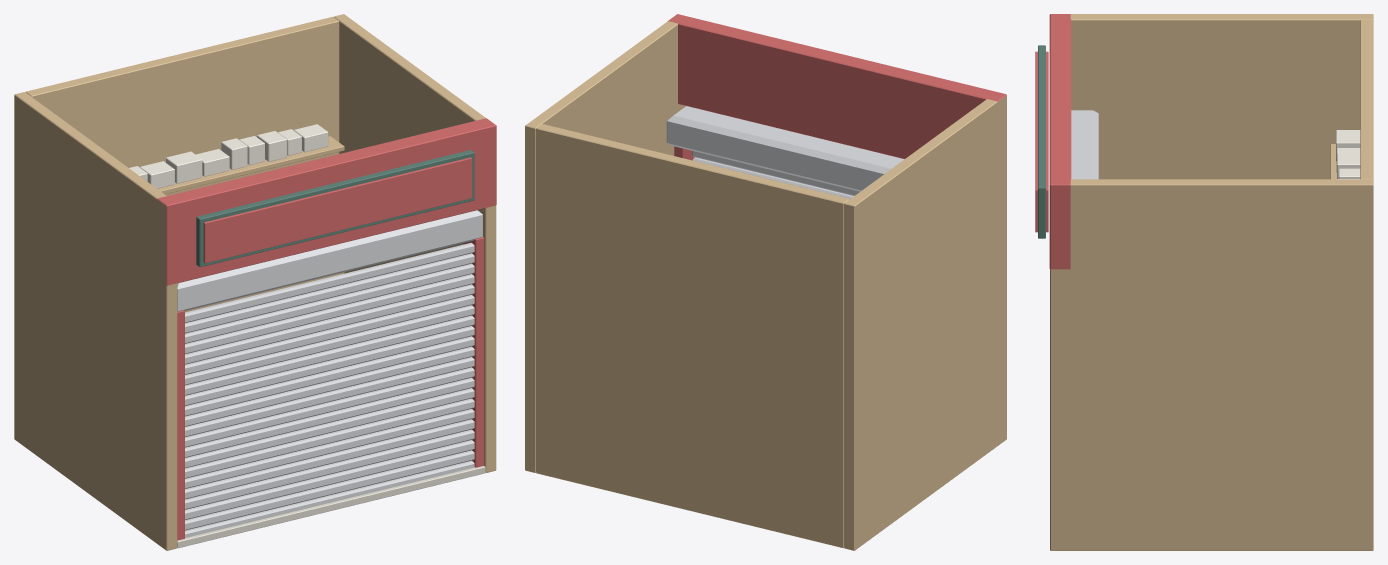
File: indoor-market-hall-and-traders-lock-up-stall-unit-red-3f955420.glb
3 views of the same model, side by side, from view 1: azimuth 30°, elevation 25°; view 2: azimuth 150°, elevation 25°; view 3: azimuth 270°, elevation 25° (orthographic). The views are drawn at different scales.
Visible parts, largest first — view 1: lock-up-stall-unit-red, shutter; view 2: lock-up-stall-unit-red, shutter; view 3: lock-up-stall-unit-red.
Part boxes in pixels (bbox=[...]): lock-up-stall-unit-red: bbox=[14, 14, 496, 550]; shutter: bbox=[185, 242, 474, 537]; lock-up-stall-unit-red: bbox=[525, 14, 1006, 550]; shutter: bbox=[692, 151, 859, 199]; lock-up-stall-unit-red: bbox=[1035, 14, 1373, 550].
Bounding box in the file's own units: 3 × 3 × 2.51.
